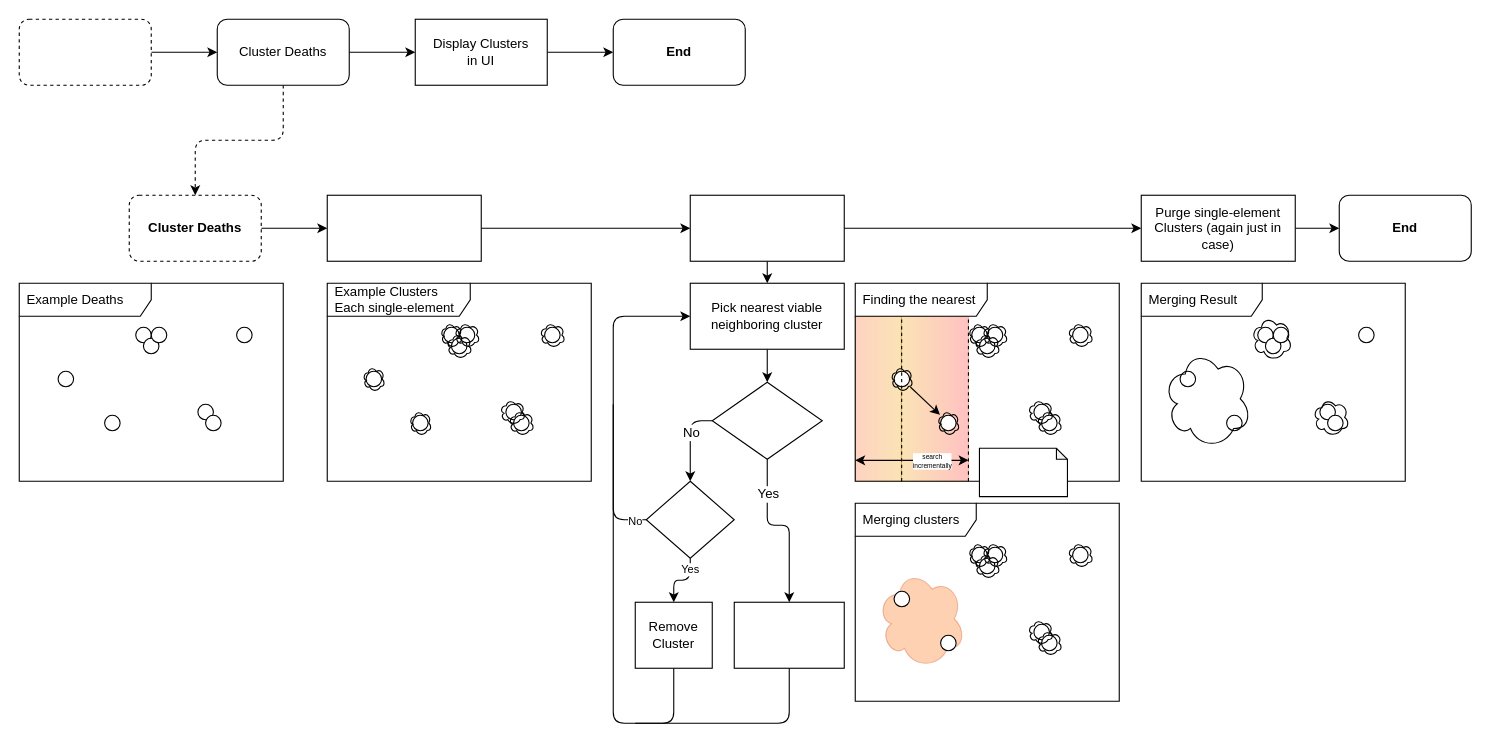
The diagram is 1491 pixels wide and 751 high, and some of its shapes have lost their labels. The shapes that lost their labels are listed below. From the top down, each one's centre as x and y in pixels, then its label:
At (x=84, y=51): "Update Groups".
At (x=403, y=227): "Assign each death a single-element cluster".
At (x=766, y=227): "For every cluster".
At (x=766, y=420): "Neighbor found?".
At (x=1022, y=472): "Improved search efficiency thanks to array sorted by x-coordinate".
At (x=689, y=519): "Cluster has only one element?".
At (x=788, y=634): "Merge the two clusters".
